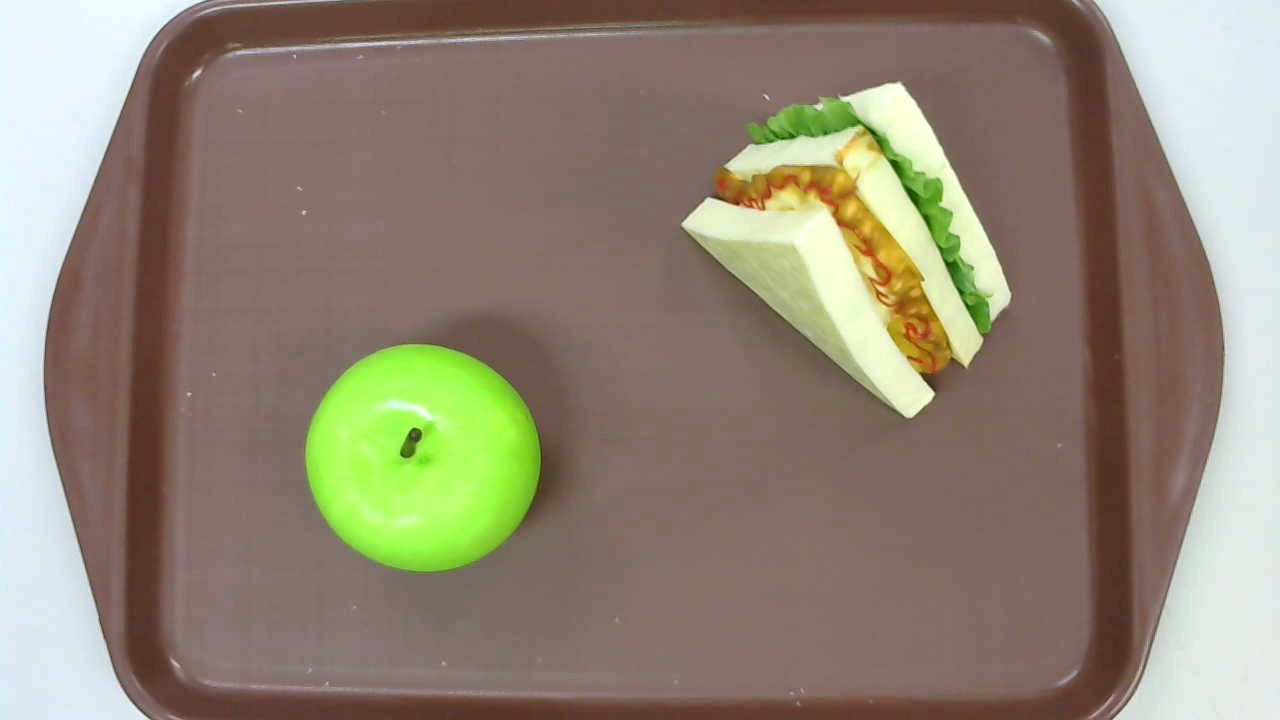green apple: (303, 343, 541, 571)
sandwich: (678, 80, 1011, 420)
